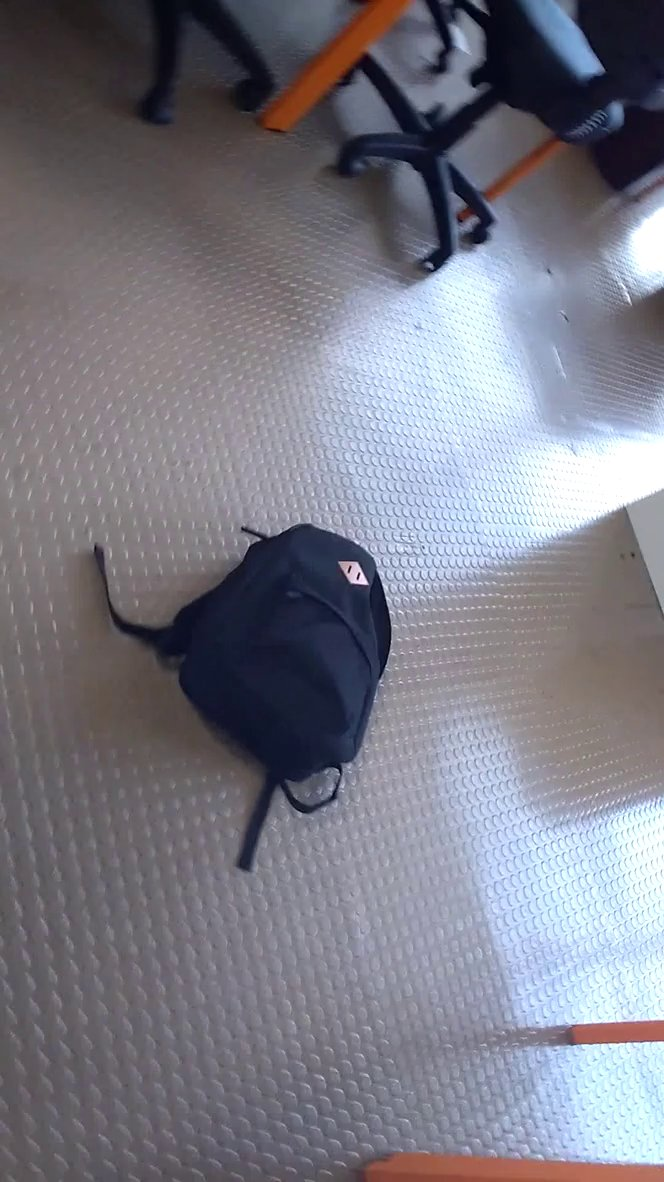bag: (81, 512, 398, 885)
